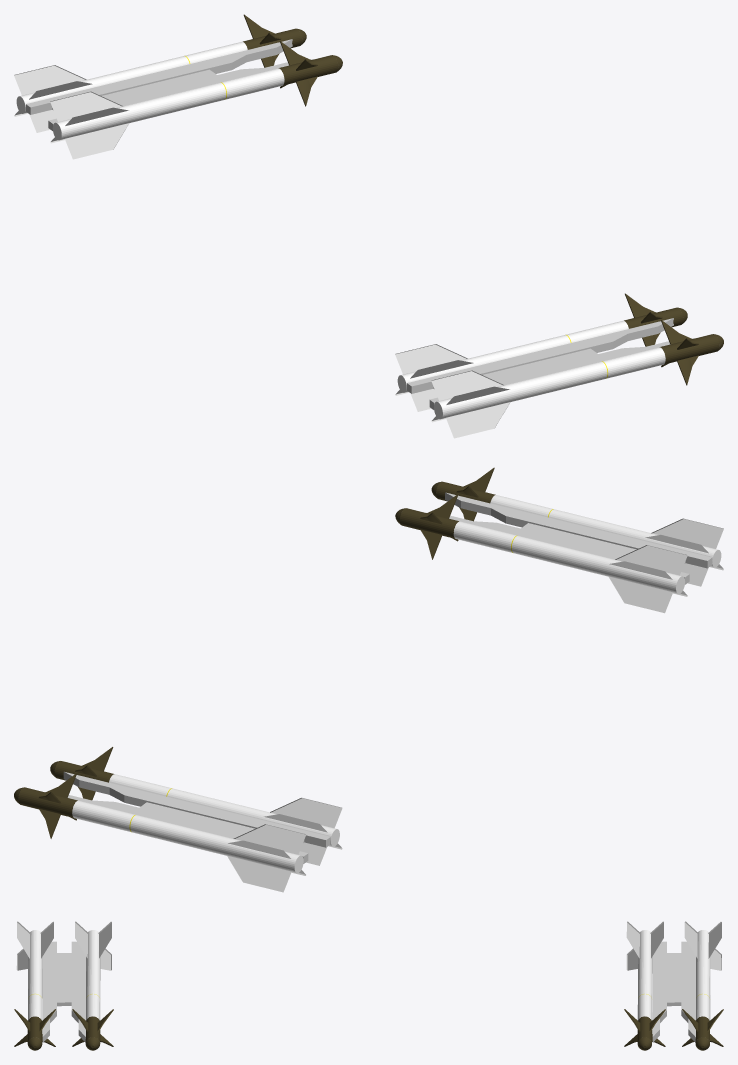
The model's file is aim9fa18e38.glb.
3 views of the same model, one above another, from view 1: azimuth 30°, elevation 25°; view 2: azimuth 150°, elevation 25°; view 3: azimuth 270°, elevation 25° (orthographic). The views are drawn at different scales.
Visible parts, largest first — view 1: 円柱.007, 円柱.002, 円柱.006, 円柱.001, 立方体.009, 立方体.020; view 2: 円柱.006, 円柱.001, 円柱.007, 円柱.002, 立方体.020, 立方体.009; view 3: 立方体.020, 立方体.009, 円柱.002, 円柱.001, 円柱.007, 円柱.006.
Part boxes in pixels (box(x1,y1,x2,y2)): 円柱.007: box(431, 320, 723, 438); 円柱.002: box(50, 41, 342, 159); 円柱.006: box(395, 293, 687, 411); 円柱.001: box(14, 14, 306, 132); 立方体.009: box(407, 318, 694, 409); 立方体.020: box(26, 39, 313, 130); 円柱.006: box(395, 494, 687, 613); 円柱.001: box(14, 773, 305, 892); 円柱.007: box(431, 467, 723, 586); 円柱.002: box(50, 747, 342, 865); 立方体.020: box(44, 772, 330, 863); 立方体.009: box(425, 492, 712, 584); 立方体.020: box(652, 941, 695, 1042); 立方体.009: box(42, 941, 85, 1042); 円柱.002: box(624, 921, 665, 1050); 円柱.001: box(682, 921, 723, 1050); 円柱.007: box(14, 921, 55, 1050); 円柱.006: box(72, 921, 113, 1050).
Bounding box in the file's own units: 3.38 × 0.543 × 9.14.
Materials: 2 (2 with a texture image).
